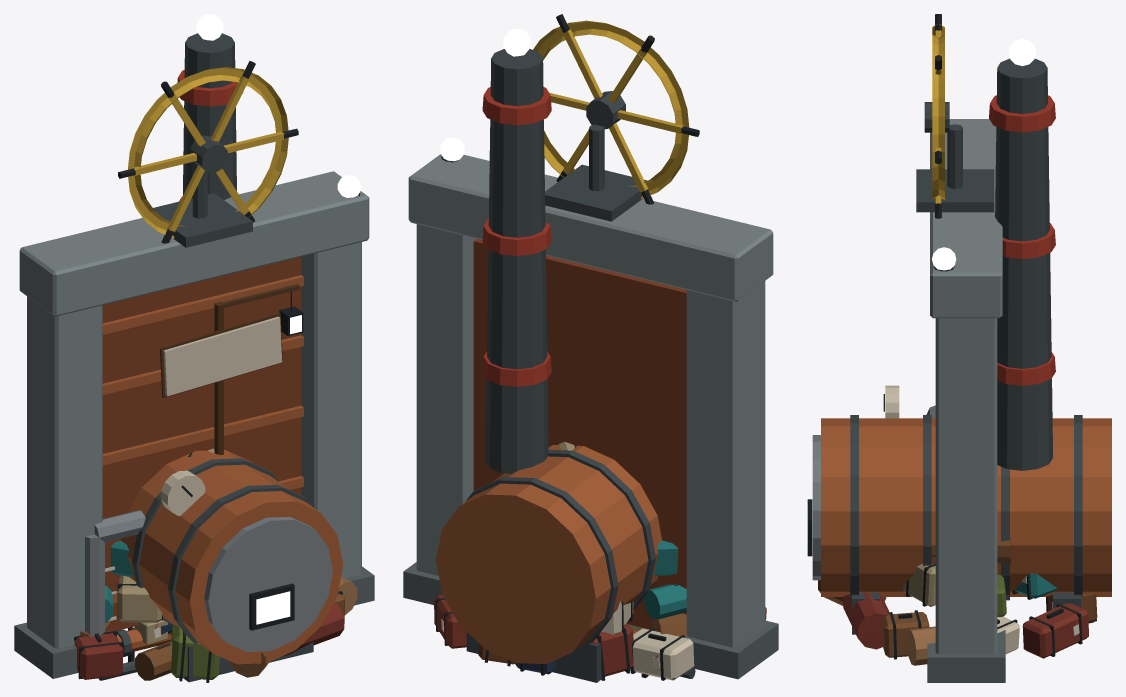
Rendered from dress_ware.glb.
3 renders of one model, left to right at view 1: azimuth 30°, elevation 25°; view 2: azimuth 150°, elevation 25°; view 3: azimuth 270°, elevation 25°, orthographic. The views are drawn at different scales.
Visible parts, largest first — view 1: lm_wheel_m, lm_boiler_m, lm_pile_m, x_pipe_w_m, w_luggage_m; view 2: lm_wheel_m, lm_boiler_m, lm_pile_m; view 3: lm_boiler_m, lm_wheel_m, lm_pile_m.
Boxes of the visible parts, x1,y1,x2,y2 form: lm_wheel_m: [14, 61, 374, 678]; lm_boiler_m: [85, 14, 343, 682]; lm_pile_m: [74, 284, 357, 682]; x_pipe_w_m: [98, 627, 171, 680]; w_luggage_m: [134, 620, 171, 644]; lm_wheel_m: [403, 14, 778, 679]; lm_boiler_m: [436, 28, 661, 682]; lm_pile_m: [434, 442, 766, 680]; lm_boiler_m: [807, 39, 1111, 634]; lm_wheel_m: [916, 14, 1005, 682]; lm_pile_m: [818, 533, 1097, 665].
Size of the model in its own units: 6.7 by 12.2 by 5.45.
